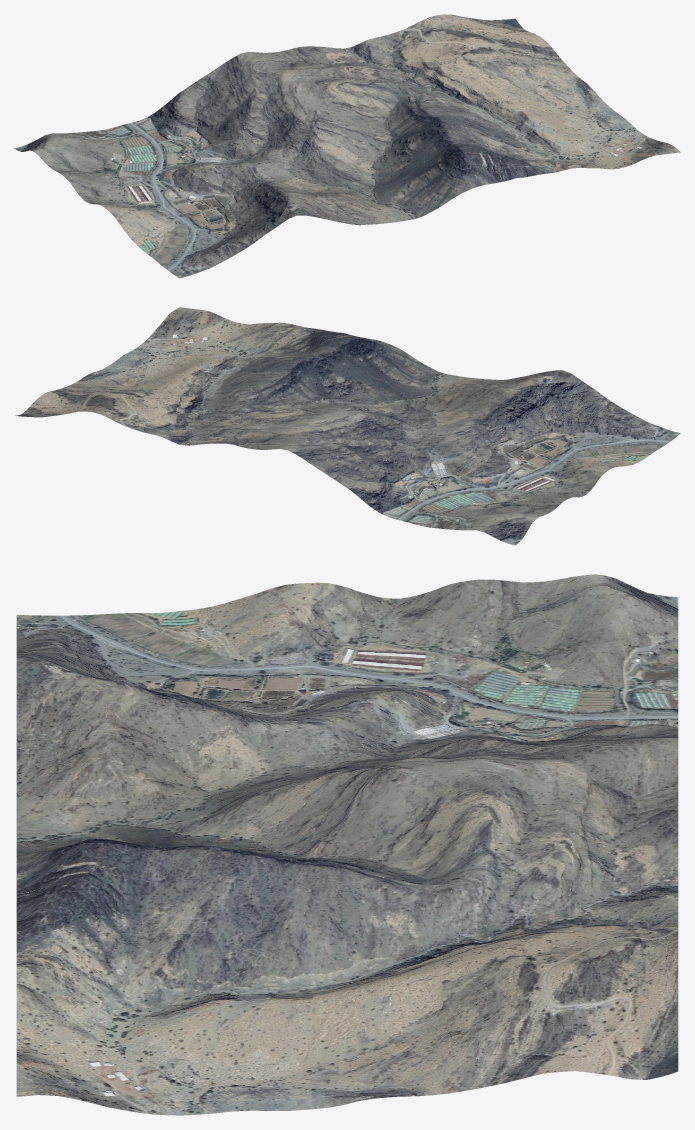
File: taif.dae
3 renders of one model, top to bottom at view 1: azimuth 30°, elevation 25°; view 2: azimuth 150°, elevation 25°; view 3: azimuth 270°, elevation 25°, orthographic. The views are drawn at different scales.
Visible parts, largest first — view 1: EXPORT_GOOGLE_SAT_WM; view 2: EXPORT_GOOGLE_SAT_WM; view 3: EXPORT_GOOGLE_SAT_WM.
Part boxes in pixels (x1=…): EXPORT_GOOGLE_SAT_WM: x1=14, y1=14, x2=680, y2=278; EXPORT_GOOGLE_SAT_WM: x1=15, y1=307, x2=680, y2=545; EXPORT_GOOGLE_SAT_WM: x1=16, y1=574, x2=678, y2=1115.
Size of the model in its own units: 2140 by 1223 by 221.
